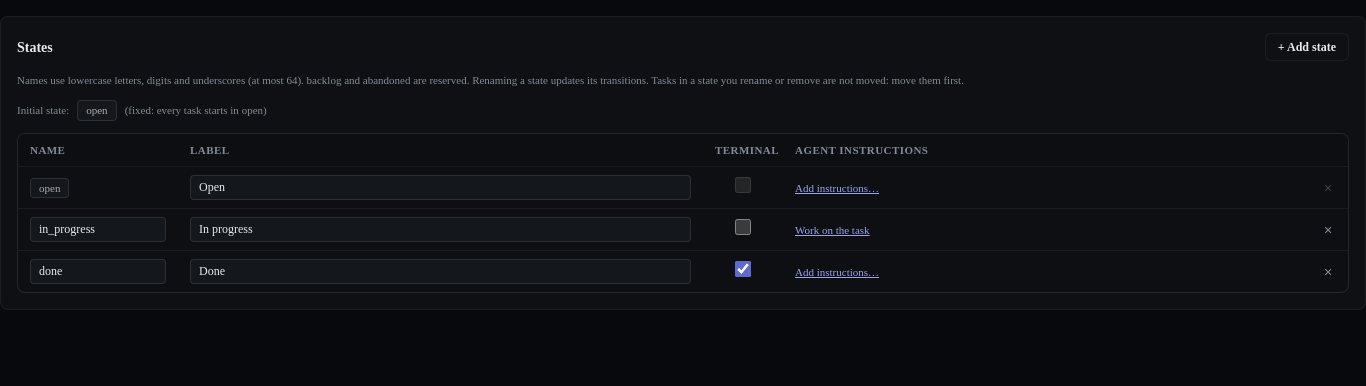
StatesTable: name validation (mirrors the backend) › typing the current name back after an invalid one is not a duplicate and forwards nothing
The image size is (1366, 386).
Replace the text in the field named "State name for row 2" with "QA": (98, 230) [30, 217, 166, 242]
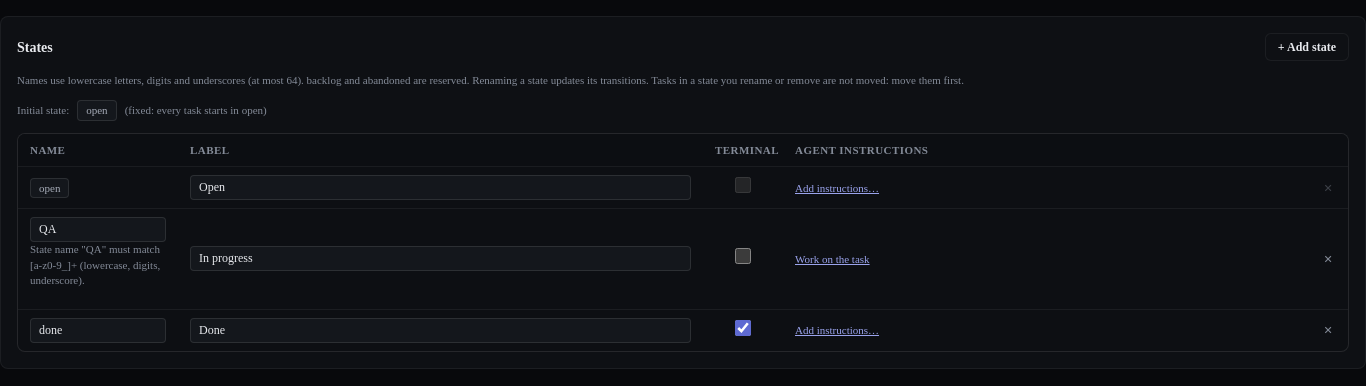
expect the message "State name \"QA\" must match [a-z0-9_]+ (lowercase, digits, underscore)." is shown: met, box [30, 242, 166, 289]
Replace the text in the field named "State name for row 2" with "in_progress": (98, 230) [30, 217, 166, 242]
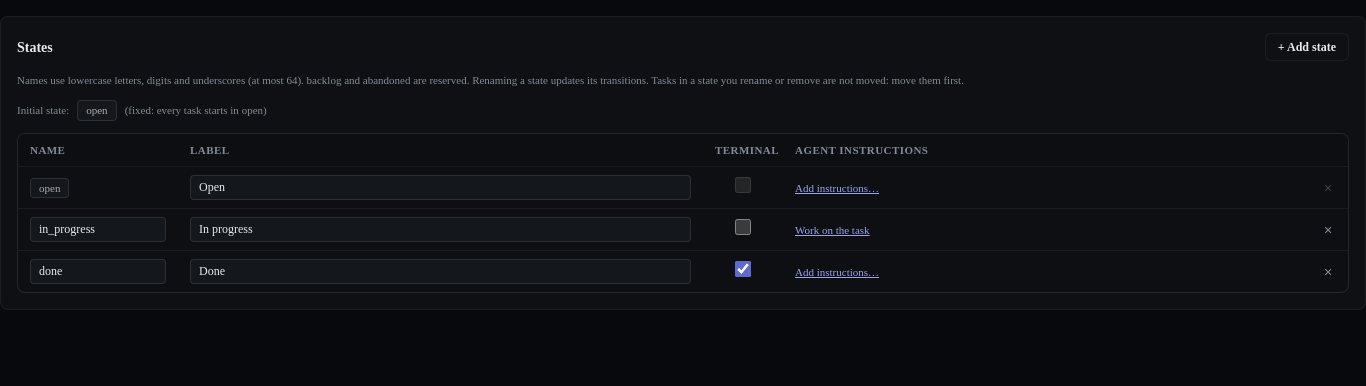
expect the message "State name \"QA\" must match [a-z0-9_]+ (lowercase, digits, underscore)." is gone: met
